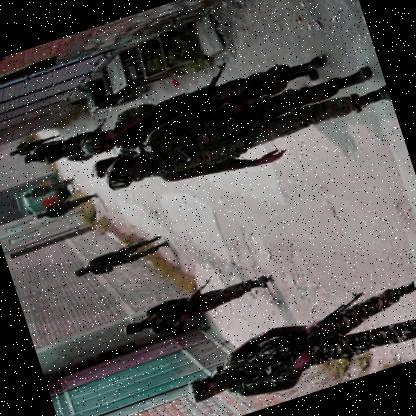rifle: (166, 59, 303, 158), (262, 289, 379, 377), (160, 279, 220, 326), (181, 62, 236, 110), (94, 242, 137, 270), (79, 113, 114, 141)
